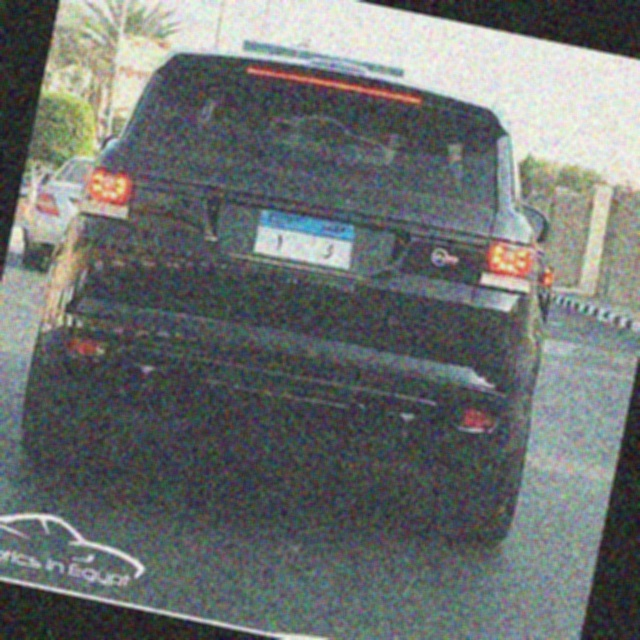License Plate: (245, 201, 364, 276)
